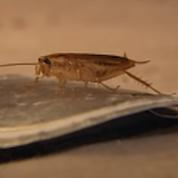cockroach: (29, 49, 152, 94)
